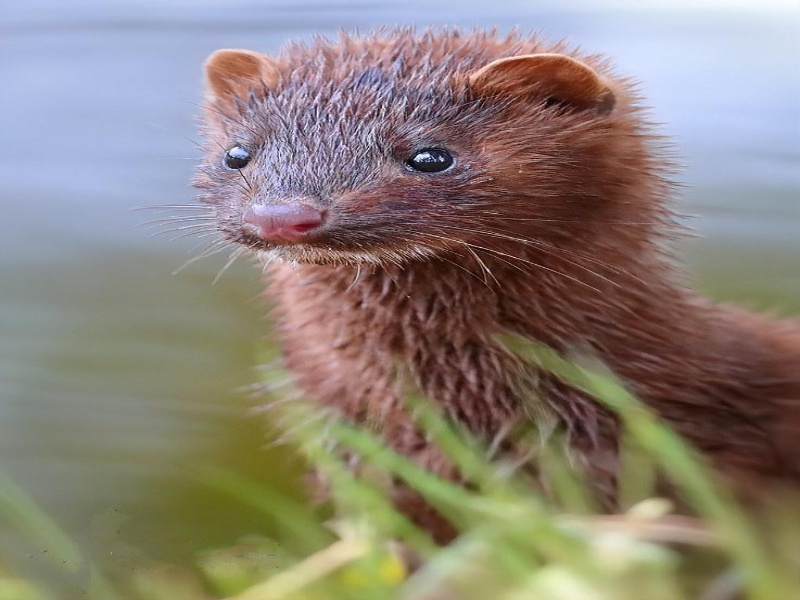minkish: (191, 31, 796, 583)
